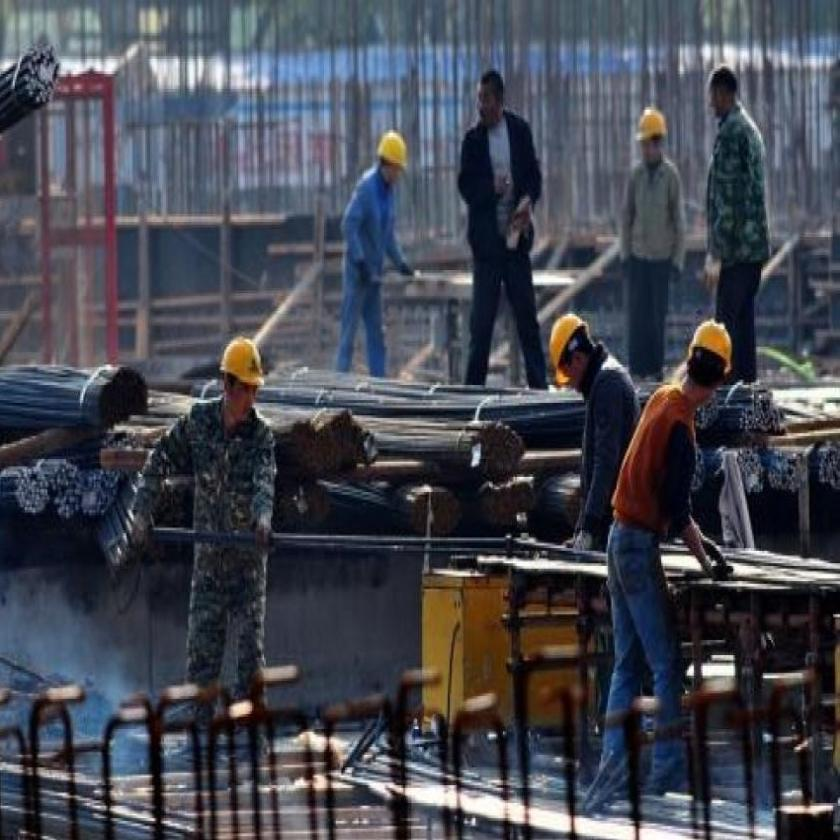Con_casco: (665, 300, 744, 411), (203, 318, 278, 420), (362, 110, 418, 192), (545, 314, 591, 392), (636, 96, 668, 160)
Sin_casco: (705, 66, 741, 123), (476, 71, 510, 128)
